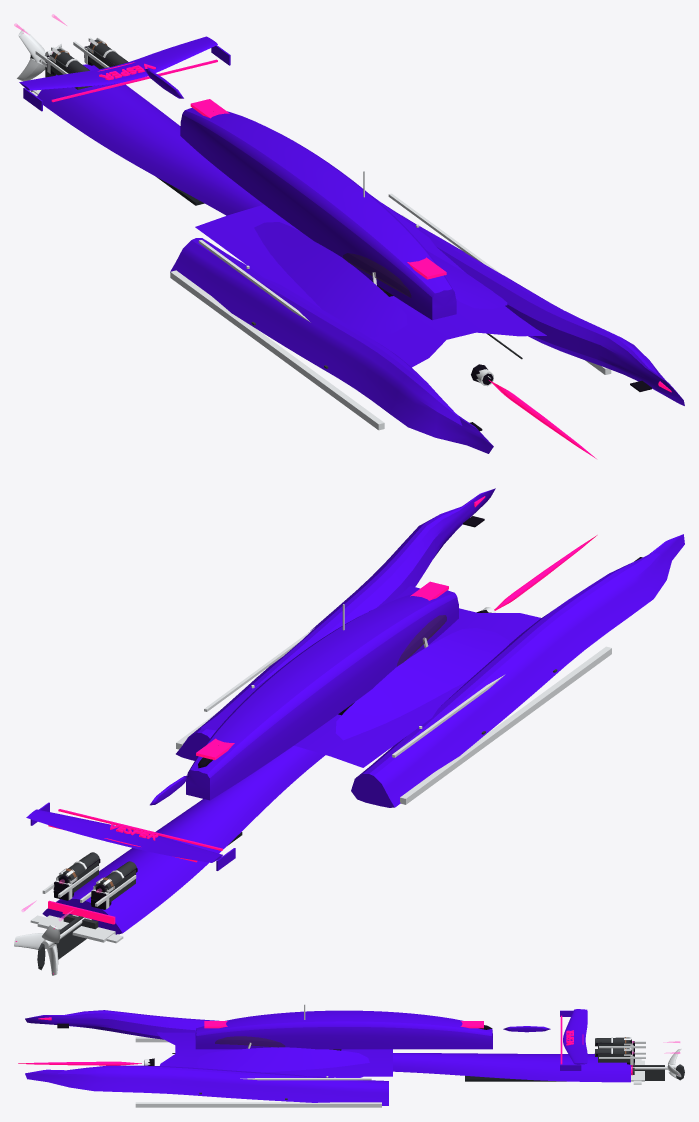
Rendered from vesper.glb.
3 views of the same model, one above another, from view 1: azimuth 30°, elevation 25°; view 2: azimuth 150°, elevation 25°; view 3: azimuth 270°, elevation 25° (orthographic). The views are drawn at different scales.
Parts seen in each view (by area): view 1: Cowling, Sponson_L, Afterplane, TunnelDeck, Sponson_R, Fairing_L, RearWing, SprayRail_L, Fairing_R, SpineSlash, CanopyGlass, NoseSpike; view 2: Cowling, Sponson_L, Afterplane, Fairing_L, Sponson_R, TunnelDeck, RearWing, SprayRail_L, SpineSlash, SplashPlate; view 3: Cowling, Sponson_R, Afterplane, Fairing_R, Sponson_L, TunnelDeck, SprayRail_R, RearWing, CanopyGlass, NoseSpike, Gunwale_R, SpineSlash (+5 smaller).
Part boxes in pixels (x1,y1,x2,y2): Cowling: (180, 108, 456, 320); Sponson_L: (170, 238, 493, 453); Afterplane: (37, 64, 263, 215); TunnelDeck: (195, 194, 546, 367); Sponson_R: (382, 203, 684, 405); Fairing_L: (254, 222, 407, 337); RearWing: (19, 36, 217, 90); SprayRail_L: (170, 270, 384, 430); Fairing_R: (426, 250, 507, 308); SpineSlash: (190, 99, 446, 279); CanopyGlass: (342, 253, 411, 297); NoseSpike: (489, 380, 596, 458); Cowling: (186, 590, 458, 800); Sponson_L: (351, 534, 684, 807); Afterplane: (42, 746, 325, 934); Fairing_L: (335, 628, 509, 740); Sponson_R: (176, 488, 495, 760); TunnelDeck: (200, 586, 541, 767); RearWing: (26, 809, 222, 862); SprayRail_L: (400, 646, 611, 804); SpineSlash: (196, 581, 448, 760); SplashPlate: (37, 915, 115, 942); Cowling: (195, 1010, 492, 1049); Sponson_R: (25, 1065, 388, 1105); Afterplane: (393, 1053, 630, 1082); Fairing_R: (196, 1047, 369, 1077); Sponson_L: (25, 1010, 218, 1039); TunnelDeck: (157, 1032, 392, 1076); SprayRail_R: (135, 1102, 381, 1107); RearWing: (563, 1009, 587, 1064); CanopyGlass: (215, 1036, 340, 1049); NoseSpike: (18, 1061, 141, 1065); Gunwale_R: (240, 1078, 371, 1080); SpineSlash: (204, 1021, 483, 1028).
Bounding box in the file's own units: 2.03 × 1.09 × 8.12.
